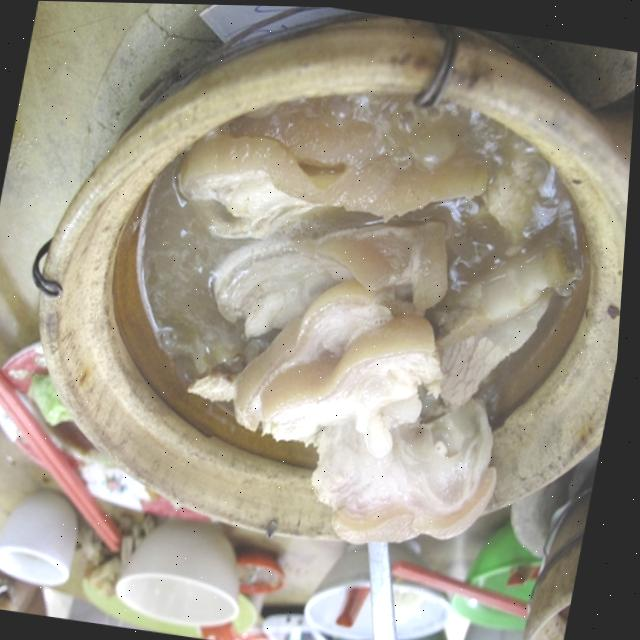汤锅炖物: (75, 38, 620, 602)
